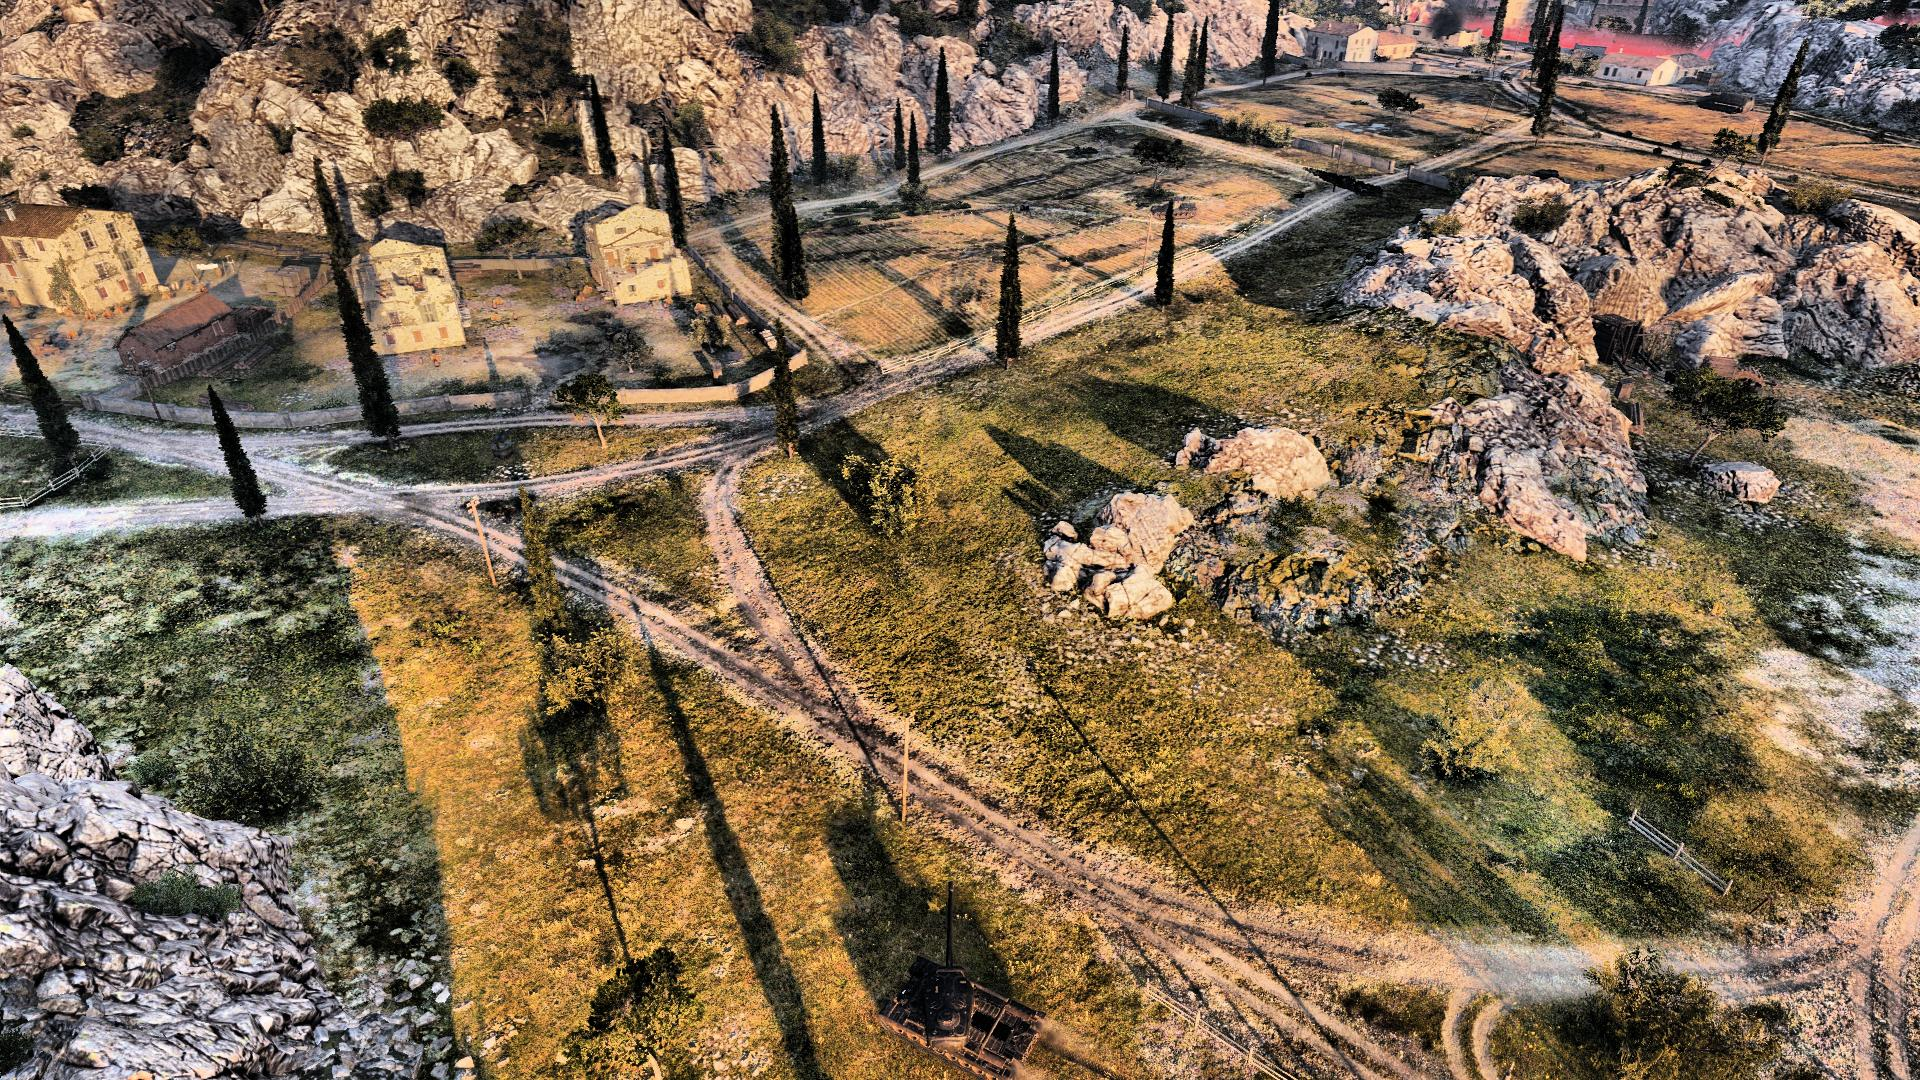military-vehicle: (873, 877, 1043, 1080)
